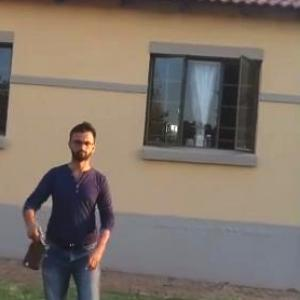follow: (16, 112, 120, 299)
